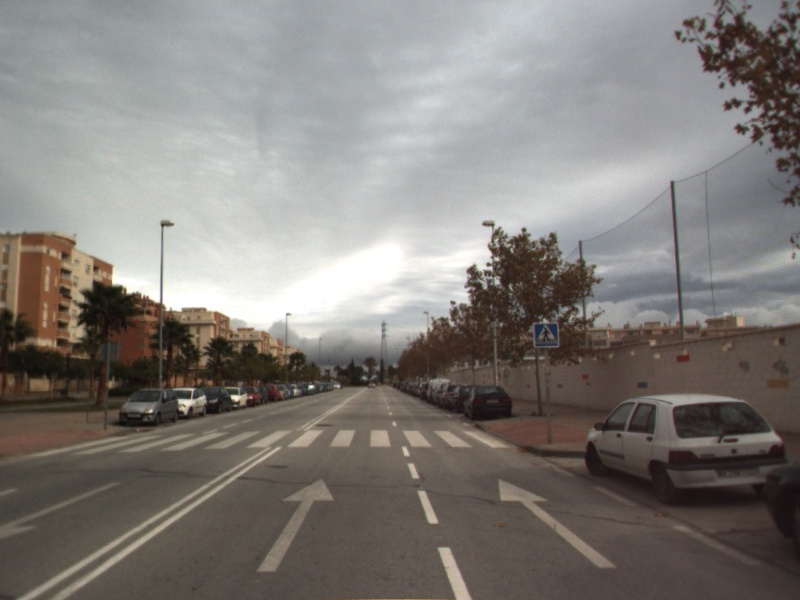STRAIGHT: (496, 476, 619, 570), (255, 476, 336, 574)
